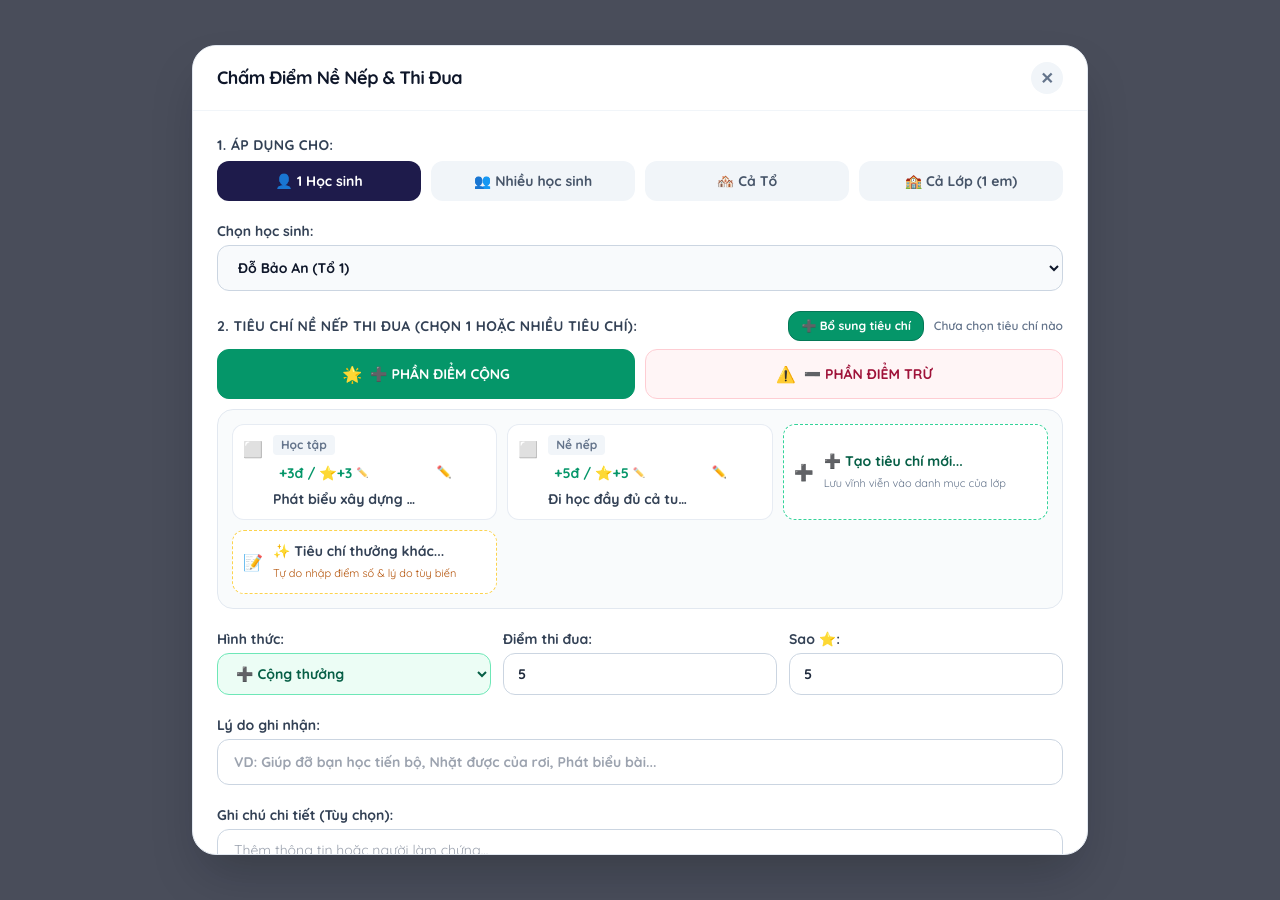
Test: AwardPointsModal Component › chuyển đổi sang Phần Điểm Trừ sẽ lọc danh sách tiêu chí chỉ còn điểm vi phạm kèm nút Tiêu chí khác
The image size is (1280, 900).
# Bấm sang tab Phần Điểm Trừ
What coordinates should you click on to do the following:
click the button "⚠️ ➖ PHẦN ĐIỂM TRỪ"
I would click on:
 (854, 374)
Its box is 645,349 -> 1063,399.
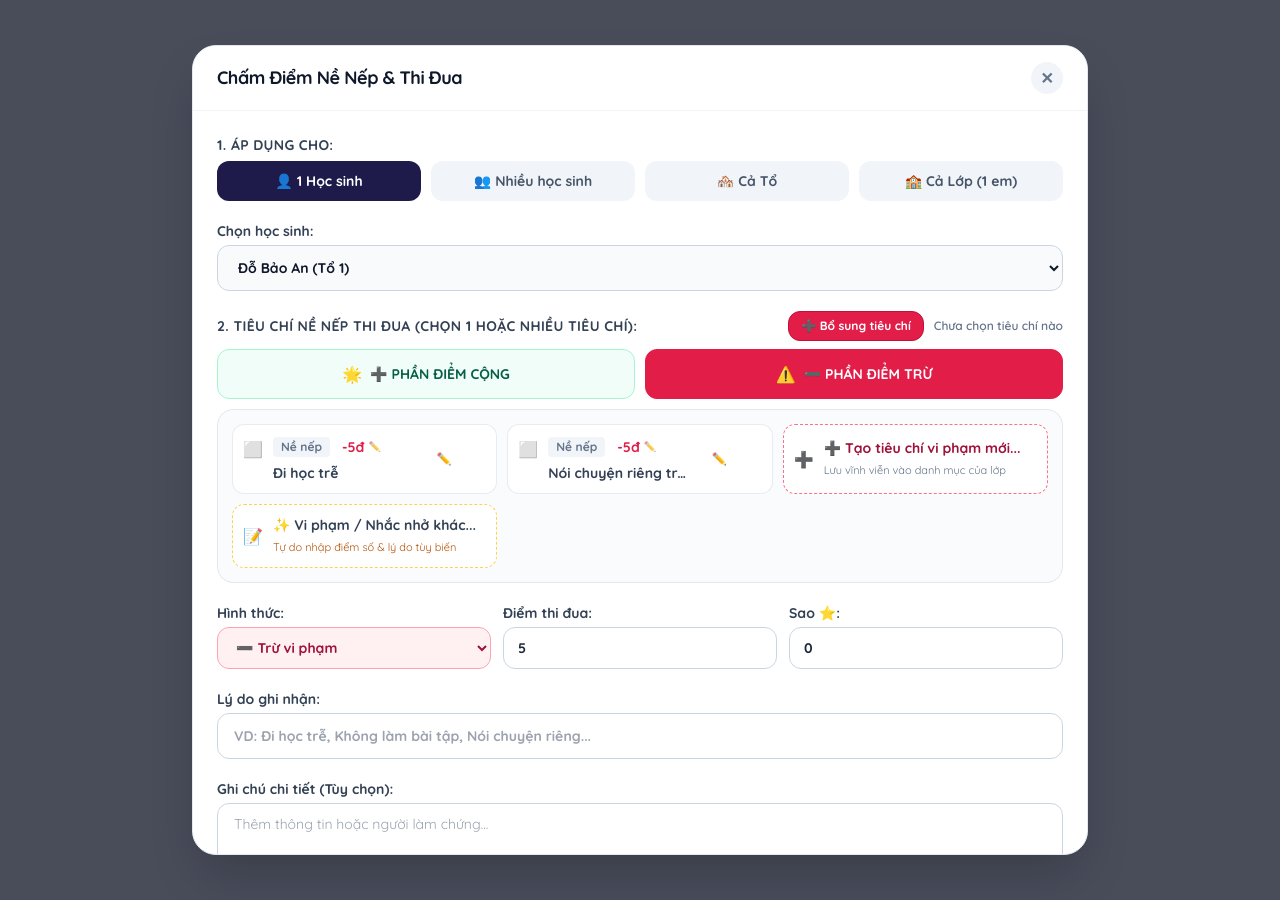
Result: the text "Đi học trễ" is shown at 273,464 -> 338,482
Result: the text "Nói chuyện riêng trong giờ" is shown at 548,463 -> 694,483
Result: the text "✨ Vi phạm / Nhắc nhở khác..." is shown at 273,515 -> 486,535
